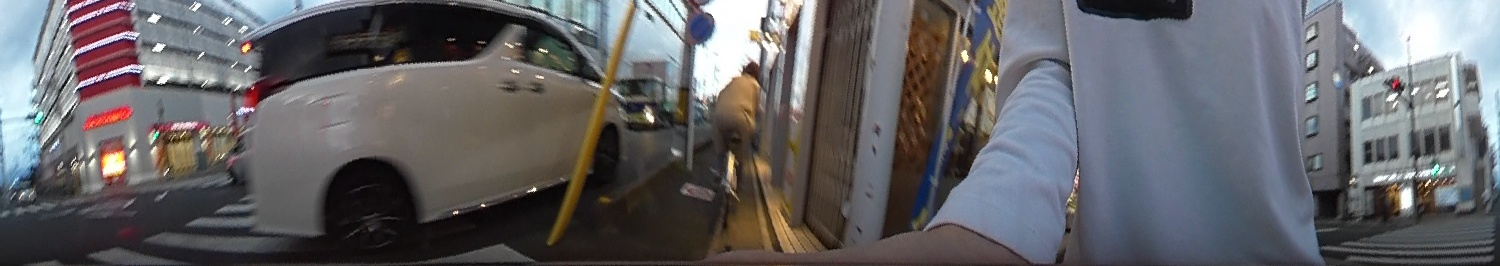person: (713, 55, 759, 210)
